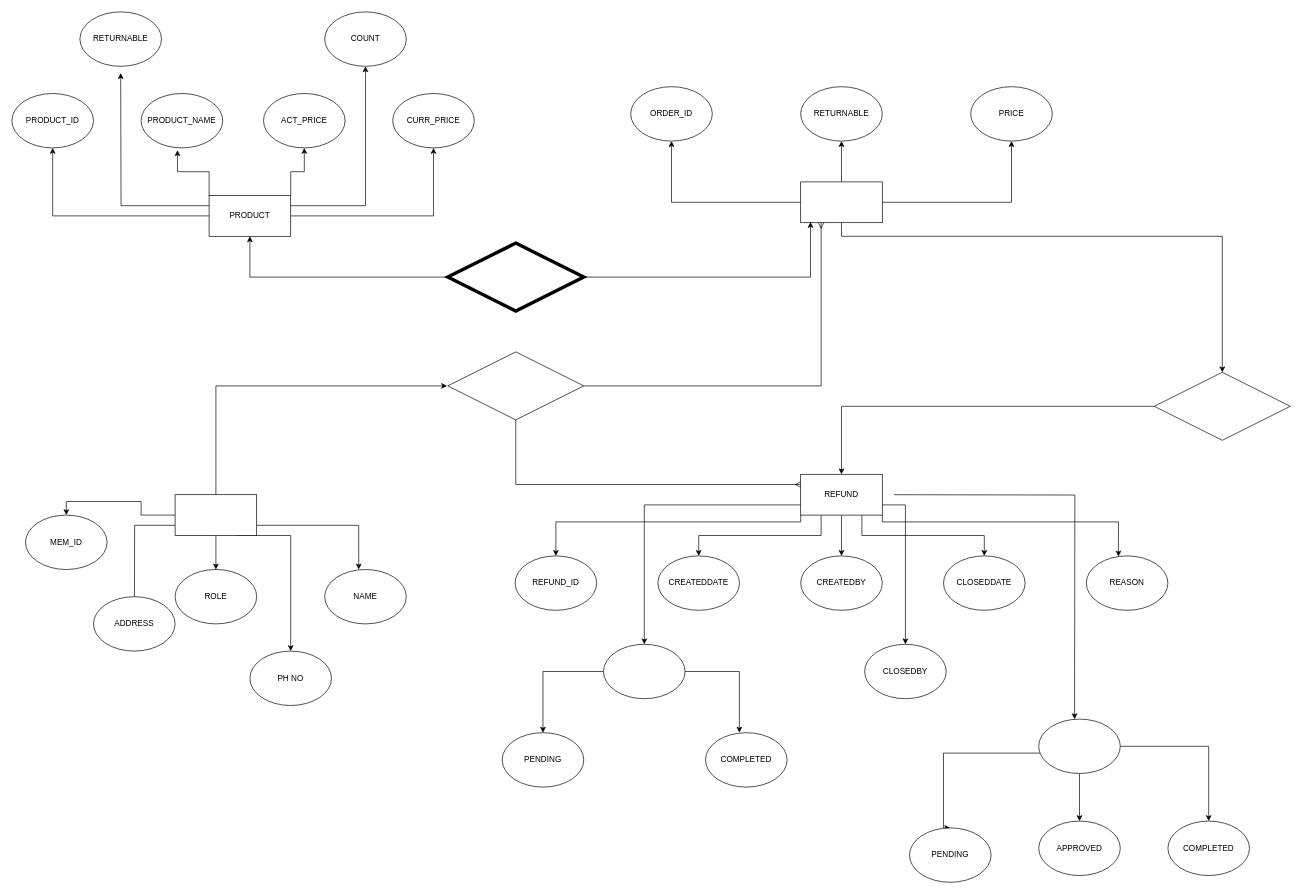
This 1302x894 diagram has some shape labels left out. Here are the shapes that lost their labels. From the top down, the centre of each, then its label:
the point at 841,202: ORDER
the point at 515,276: HAVE
the point at 515,385: MAKE
the point at 1222,406: REFUNDABLE
the point at 215,515: MEMBER
the point at 644,671: REFUNDSTATUS
the point at 1079,746: STATUS
